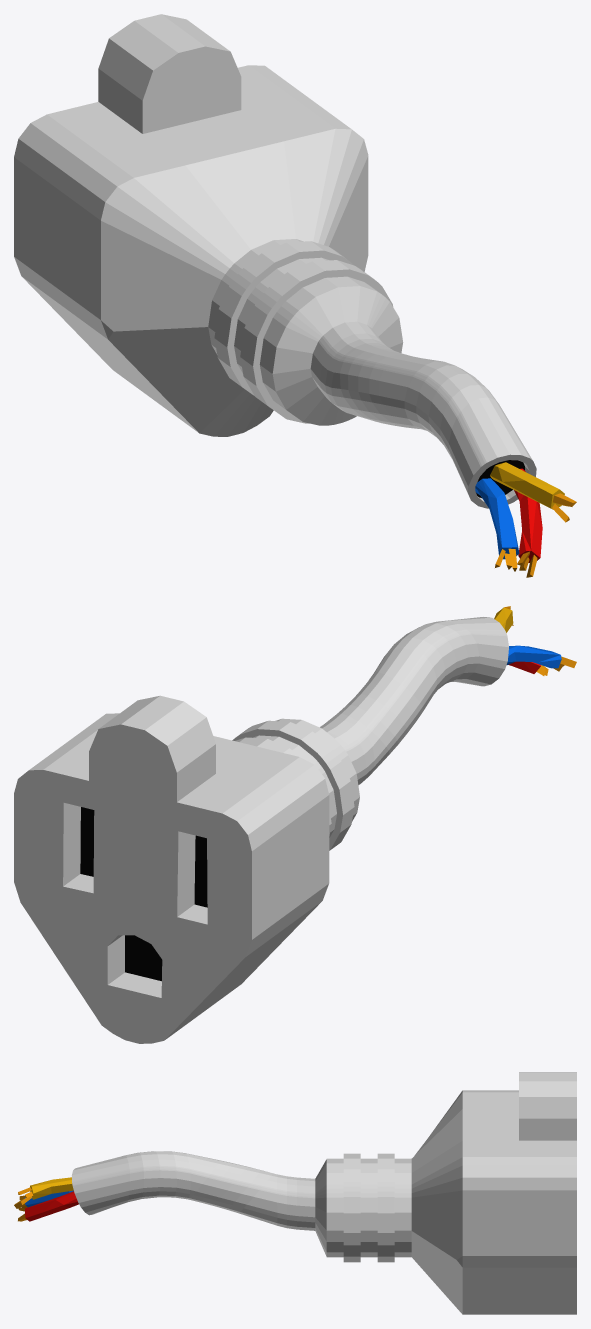
The model's file is excord.glb.
3 views of the same model, one above another, from view 1: azimuth 30°, elevation 25°; view 2: azimuth 150°, elevation 25°; view 3: azimuth 270°, elevation 25° (orthographic). The views are drawn at different scales.
Parts seen in each view (by area): view 1: excord; view 2: excord; view 3: excord.
Boxes of the visible parts, x1=… form: excord: x1=14, y1=14, x2=576, y2=577; excord: x1=14, y1=606, x2=576, y2=1043; excord: x1=14, y1=1072, x2=576, y2=1314.
Size of the model in its own units: 0.6655 by 0.8418 by 1.84.
